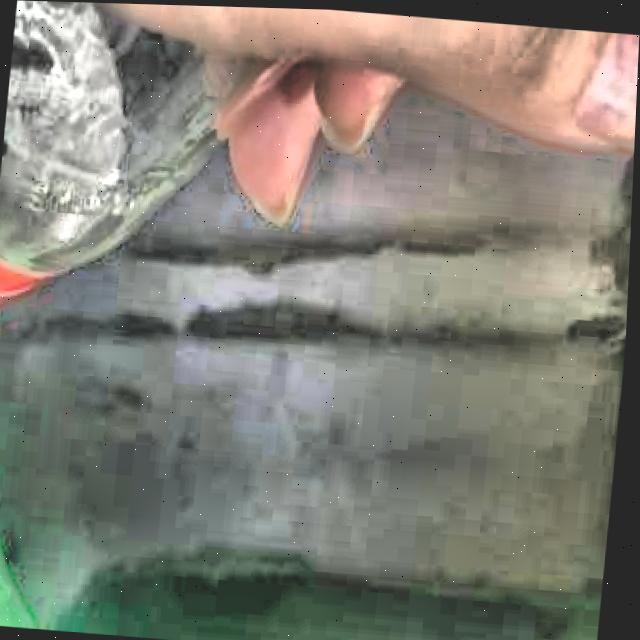glass: (0, 0, 258, 303)
